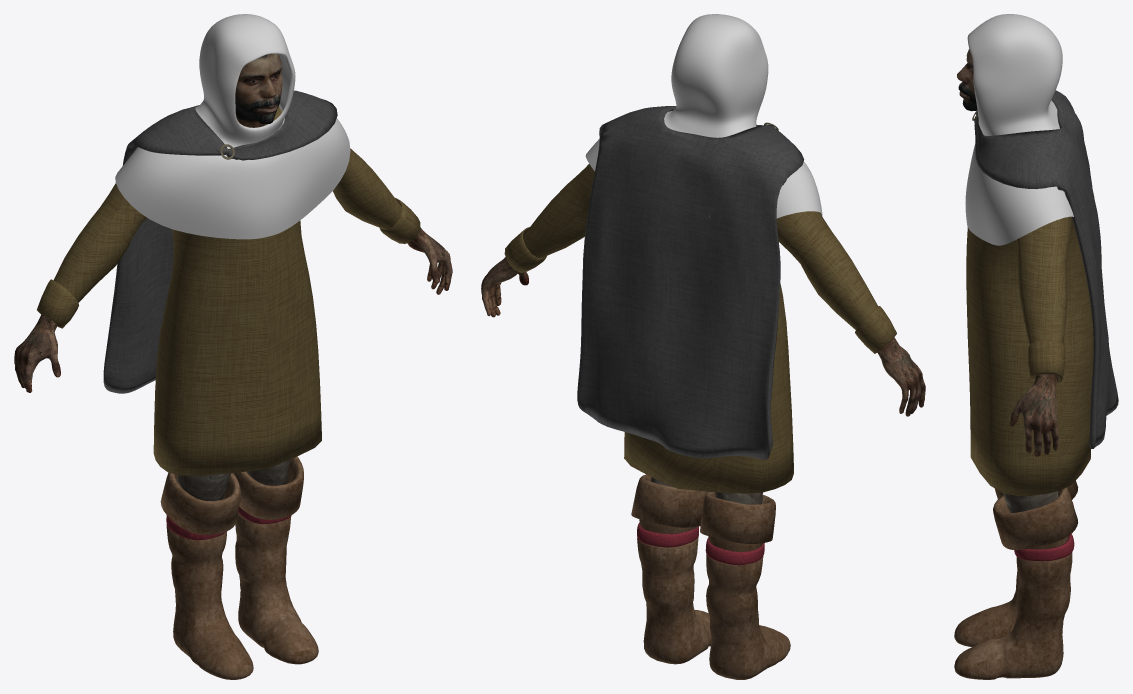
Rendered from peasant.fbx.
The picture shows the model from 3 angles, left to right: view 1: azimuth 30°, elevation 25°; view 2: azimuth 150°, elevation 25°; view 3: azimuth 270°, elevation 25°; orthographic projection.
Parts seen in each view (by area): view 1: Unity HD Render Pipeline (Metallic Standard), Cube_Cube.003, Cube_Cube.002_Cube_Cube.004, coat, playermodel_1; view 2: coat, Cube_Cube.002_Cube_Cube.004, Unity HD Render Pipeline (Metallic Standard), Cube_Cube.003, playermodel_1; view 3: Unity HD Render Pipeline (Metallic Standard), Cube_Cube.003, Cube_Cube.002_Cube_Cube.004, coat, playermodel_1.
Part boxes in pixels (<box>): Unity HD Render Pipeline (Metallic Standard): <box>37,106,420,475</box>; Cube_Cube.003: <box>115,14,350,239</box>; Cube_Cube.002_Cube_Cube.004: <box>160,456,318,679</box>; coat: <box>103,90,337,393</box>; playermodel_1: <box>14,53,452,500</box>; coat: <box>577,106,804,459</box>; Cube_Cube.002_Cube_Cube.004: <box>631,474,790,679</box>; Unity HD Render Pipeline (Metallic Standard): <box>504,164,896,493</box>; Cube_Cube.003: <box>585,14,822,218</box>; playermodel_1: <box>481,257,925,504</box>; Unity HD Render Pipeline (Metallic Standard): <box>966,216,1093,495</box>; Cube_Cube.003: <box>965,14,1073,245</box>; Cube_Cube.002_Cube_Cube.004: <box>954,480,1078,679</box>; coat: <box>974,90,1118,448</box>; playermodel_1: <box>957,49,1058,512</box>.
Size of the model in its own units: 5223 by 7353 by 1719.
